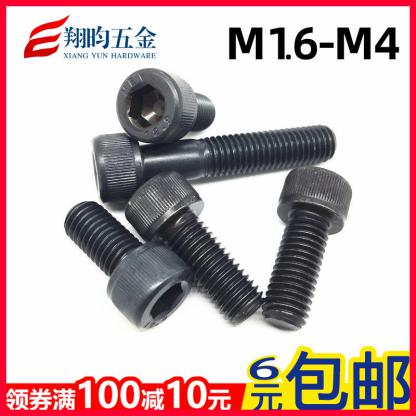FOD: (123, 167, 265, 328), (89, 123, 338, 204), (63, 199, 193, 334), (258, 163, 354, 337), (114, 67, 217, 143)
